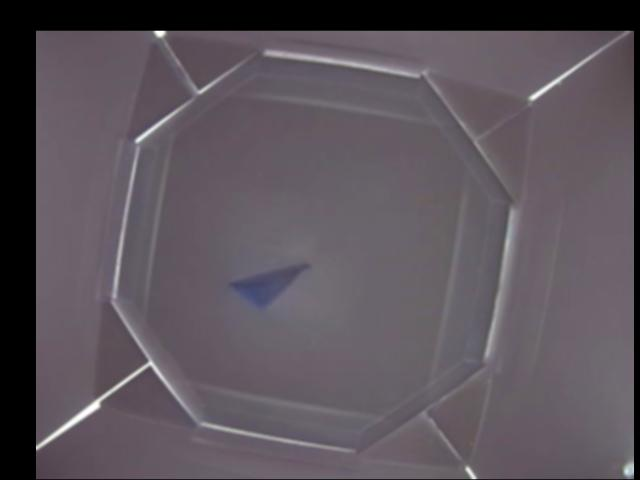Mooli: (228, 263, 312, 306)
